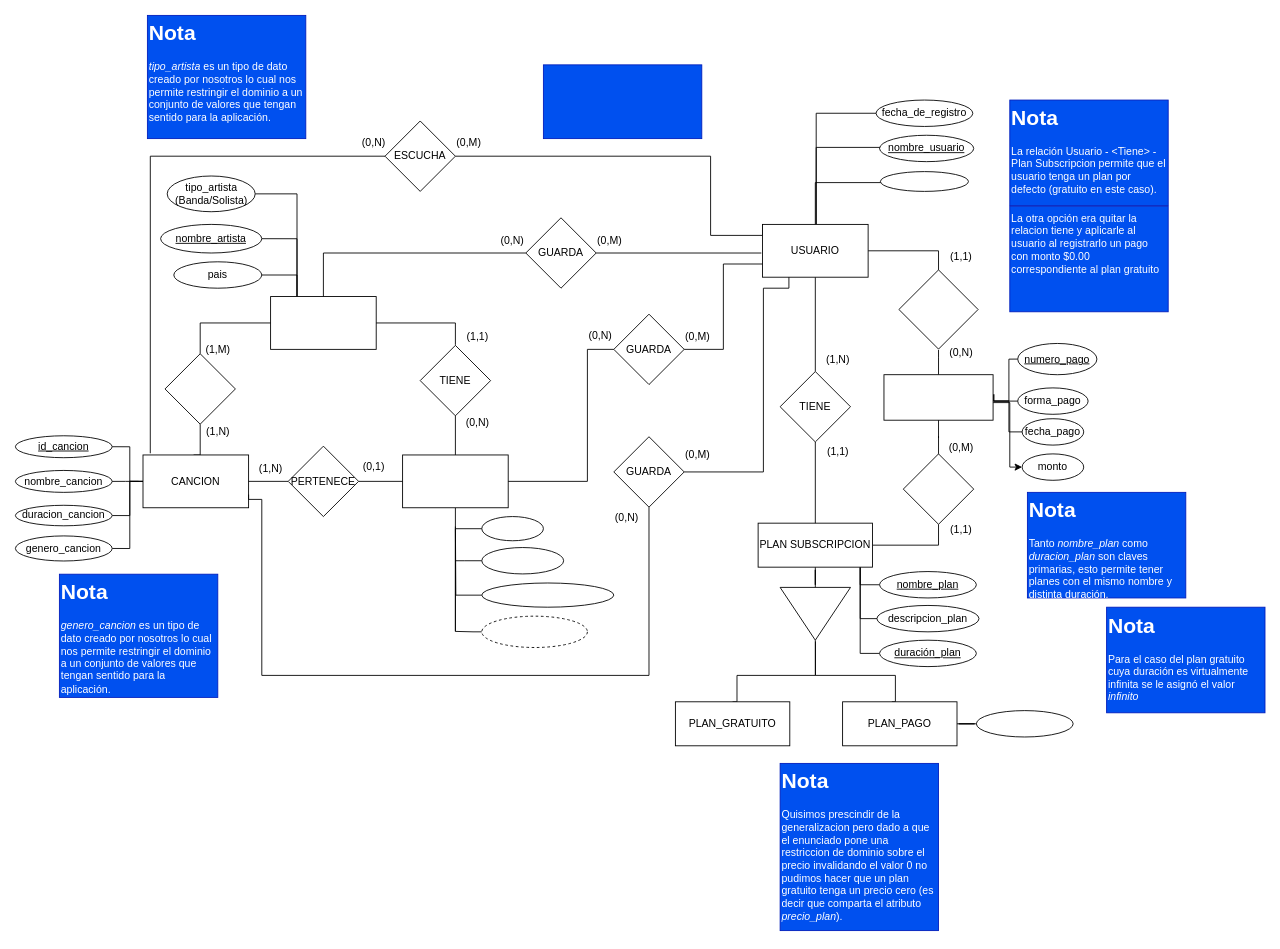
Some shapes in this 1280 by 949 pixel diagram are drawn without their labels. The shapes that lost their labels are listed below. From the top down, each one's centre as x and y in pixels, then its label:
At (x=622, y=101): "Nota El usuario guarda se refiere a que agrega a favoritos.".
At (x=924, y=181): "email".
At (x=323, y=322): "ARTISTA".
At (x=938, y=309): "REALIZA".
At (x=199, y=388): "COMPONE".
At (x=938, y=397): "PAGO".
At (x=455, y=481): "ALBUM".
At (x=938, y=488): "OTORGA".
At (x=512, y=528): "id_album".
At (x=522, y=560): "nombre_album".
At (x=547, y=594): "fecha_lanzamiento".
At (x=815, y=613): "(d)(t) es un".
At (x=534, y=631): "cantidad_canciones".
At (x=1024, y=723): "precio_plan".
